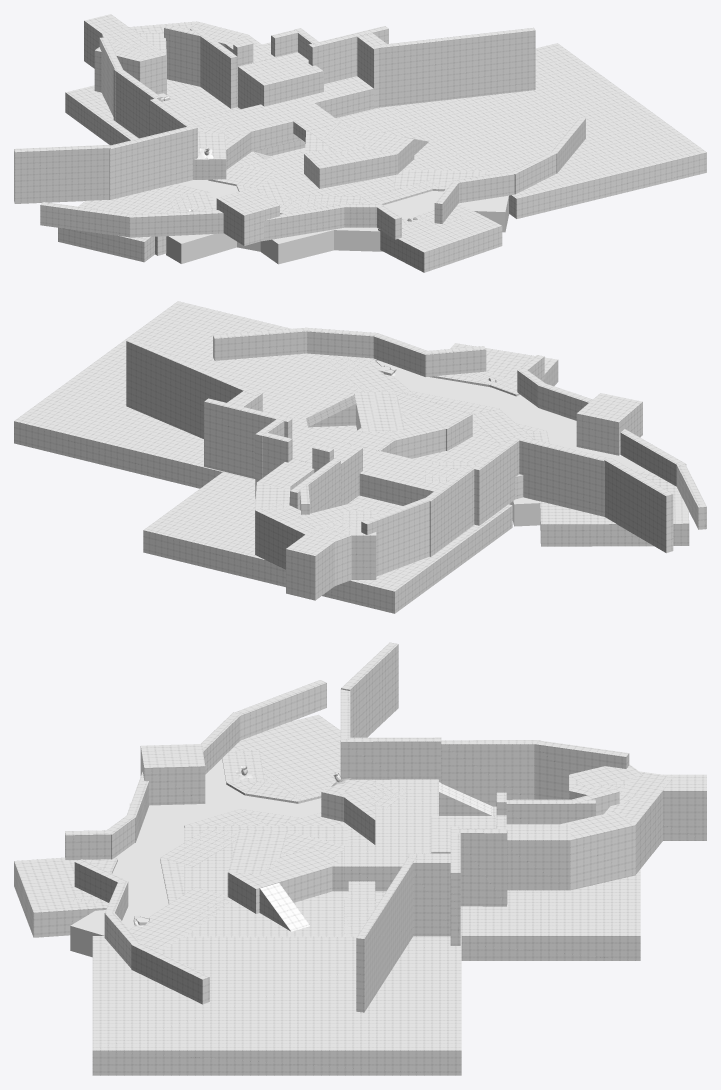
Rendered from HubBlocking.fbx.
3 views of the same model, one above another, from view 1: azimuth 30°, elevation 25°; view 2: azimuth 150°, elevation 25°; view 3: azimuth 270°, elevation 25° (orthographic). The views are drawn at different scales.
Parts seen in each view (by area): view 1: Ground__1_, Cube__23_, Cube__13_, Ground__11_, Ground__8_, Ground, Cube__10_, Ground__16_, Cube__1_, Cube__2_, Cube__5_, Cube__29_ (+43 smaller); view 2: Ground__1_, Ground, Cube__23_, Cube__10_, Cube__13_, Ground__16_, Cube__20_, Cube__2_, Cube__37_, Cube__33_, Cube__29_, Ground__8_ (+34 smaller); view 3: Ground__1_, Ground, Ground__8_, Ground__16_, Cube__27_, Cube__2_, Cube__23_, Ground__11_, Cube__36_, Cube__26_, Cube__35_, Cube__4_ (+38 smaller).
Boxes of the visible parts, x1,y1,x2,y2 form: Ground__1_: [390, 43, 706, 218]; Cube__23_: [372, 27, 535, 107]; Cube__13_: [14, 144, 110, 203]; Ground__11_: [378, 203, 502, 272]; Ground__8_: [245, 123, 478, 211]; Ground: [65, 42, 401, 155]; Cube__10_: [109, 126, 193, 199]; Ground__16_: [58, 184, 209, 262]; Cube__1_: [238, 52, 323, 108]; Cube__2_: [189, 96, 327, 151]; Cube__5_: [304, 146, 397, 188]; Cube__29_: [84, 14, 166, 94]; Ground__1_: [14, 301, 377, 488]; Ground: [143, 471, 512, 613]; Cube__23_: [126, 339, 260, 438]; Cube__10_: [517, 437, 609, 516]; Cube__13_: [604, 458, 673, 552]; Ground__16_: [540, 478, 689, 546]; Cube__20_: [204, 398, 292, 478]; Cube__2_: [341, 442, 461, 505]; Cube__37_: [255, 501, 351, 585]; Cube__33_: [361, 497, 431, 576]; Cube__29_: [286, 504, 375, 600]; Ground__8_: [292, 381, 545, 462]; Ground__1_: [92, 936, 461, 1075]; Ground: [375, 806, 640, 960]; Ground__8_: [184, 826, 348, 937]; Ground__16_: [230, 715, 340, 803]; Cube__27_: [441, 740, 540, 806]; Cube__2_: [375, 779, 438, 891]; Cube__23_: [356, 854, 417, 1012]; Ground__11_: [14, 857, 109, 937]; Cube__36_: [561, 811, 635, 890]; Cube__26_: [340, 737, 441, 782]; Cube__35_: [496, 824, 570, 890]; Cube__4_: [228, 847, 340, 913].
Bounding box in the file's own units: 10370 × 1429 × 8778.
5 materials, 1 textured.
